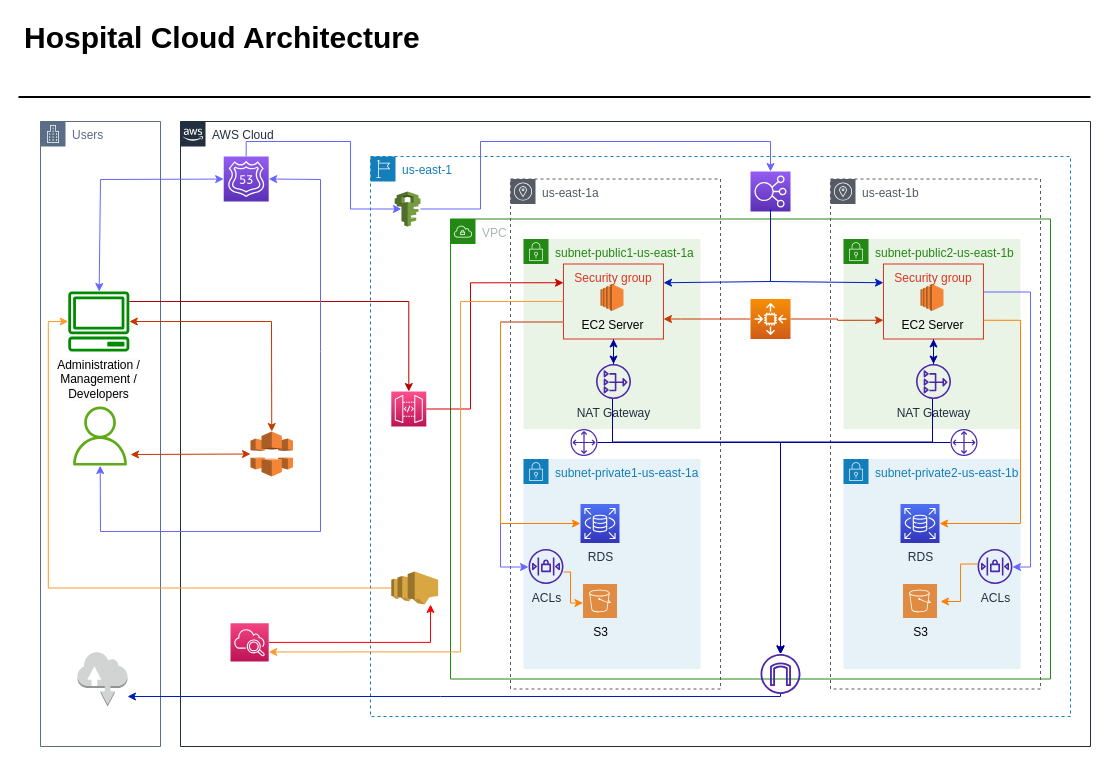
Image size: 1108x764. Some labels were removed from this diagram. The shapes that lost their labels are listed below. From the top down, each one's centre as x and y in pixels, then its label:
At pixel 246 179: "Route 53".
At pixel 770 191: "Elastic Load Balancing".
At pixel 407 208: "IAM".
At pixel 770 318: "Auto Scalling Group".
At pixel 408 408: "API Gateway".
At pixel 100 436: "Pateints".
At pixel 271 453: "Cloud Front".
At pixel 414 587: "SNS".
At pixel 249 642: "CloudWatch".
At pixel 102 678: "Internet".
At pixel 780 674: "Internet Gateway".
